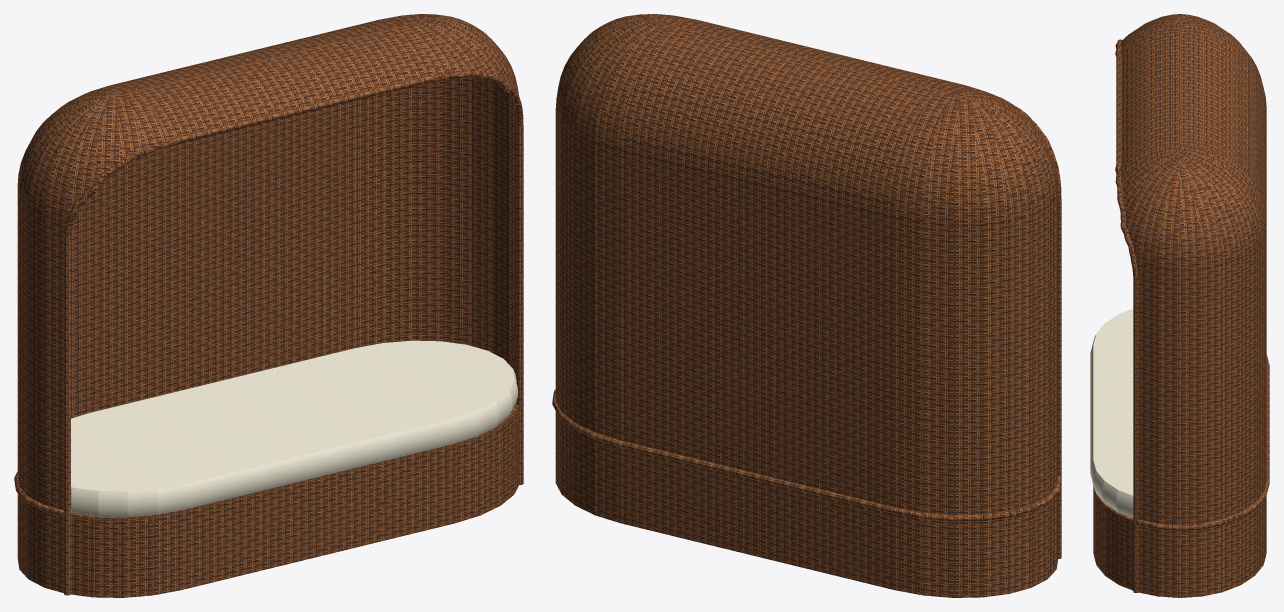
Rendered from daybed furniture 10.dae.
The picture shows the model from 3 angles, left to right: view 1: azimuth 30°, elevation 25°; view 2: azimuth 150°, elevation 25°; view 3: azimuth 270°, elevation 25°; orthographic projection. The views are drawn at different scales.
Visible parts, largest first — view 1: group_0, group_3, group_2 (×3); view 2: group_0, group_4, group_2; view 3: group_0, group_3, group_2 (×2), group_4, group_1.
Part boxes in pixels (x1=…): group_0: x1=17, y1=14, x2=519, y2=597; group_3: x1=71, y1=340, x2=518, y2=517; group_2 (×3): x1=64, y1=71, x2=523, y2=515; group_0: x1=555, y1=14, x2=1058, y2=597; group_4: x1=552, y1=389, x2=1061, y2=521; group_2: x1=1058, y1=199, x2=1061, y2=477; group_0: x1=1093, y1=14, x2=1266, y2=597; group_3: x1=1090, y1=309, x2=1133, y2=517; group_2 (×2): x1=1115, y1=51, x2=1138, y2=522; group_4: x1=1135, y1=355, x2=1269, y2=530; group_1: x1=1133, y1=522, x2=1138, y2=592.
Size of the model in its own units: 62.99 by 22.86 by 57.09.
Materials: 3 (3 with a texture image).
